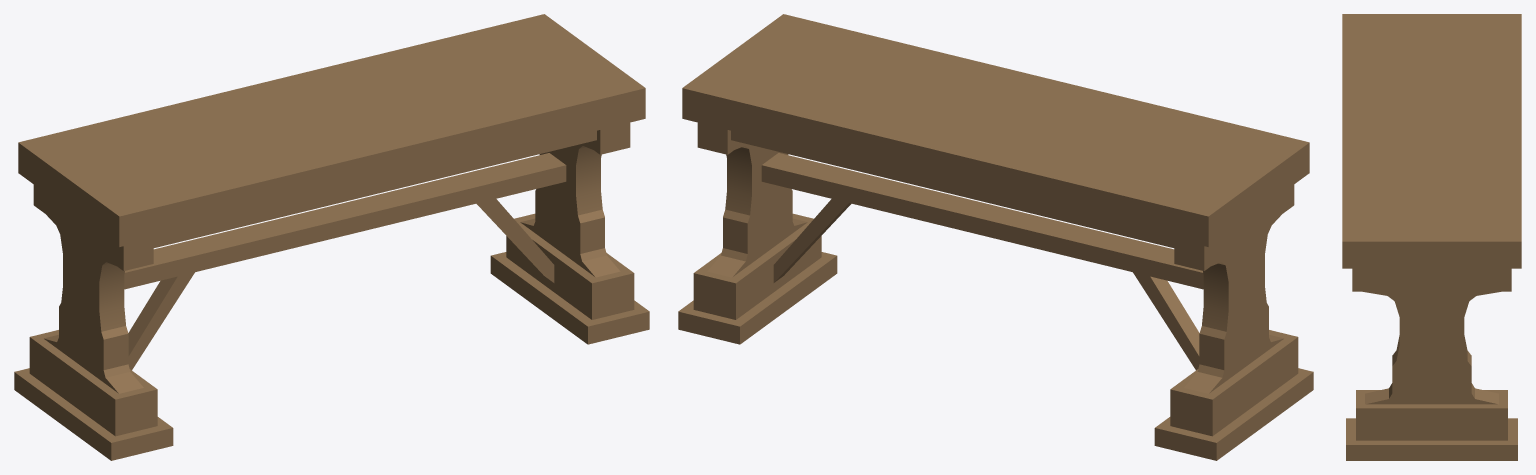
File: Ława.fbx
3 renders of one model, left to right at view 1: azimuth 30°, elevation 25°; view 2: azimuth 150°, elevation 25°; view 3: azimuth 270°, elevation 25°, orthographic. The views are drawn at different scales.
Parts seen in each view (by area): view 1: Ława; view 2: Ława; view 3: Ława.
Boxes of the visible parts, x1=… form: Ława: x1=14, y1=14, x2=649, y2=460; Ława: x1=678, y1=14, x2=1313, y2=460; Ława: x1=1342, y1=14, x2=1521, y2=460.
Bounding box in the file's own units: 92.08 × 39.95 × 30.
